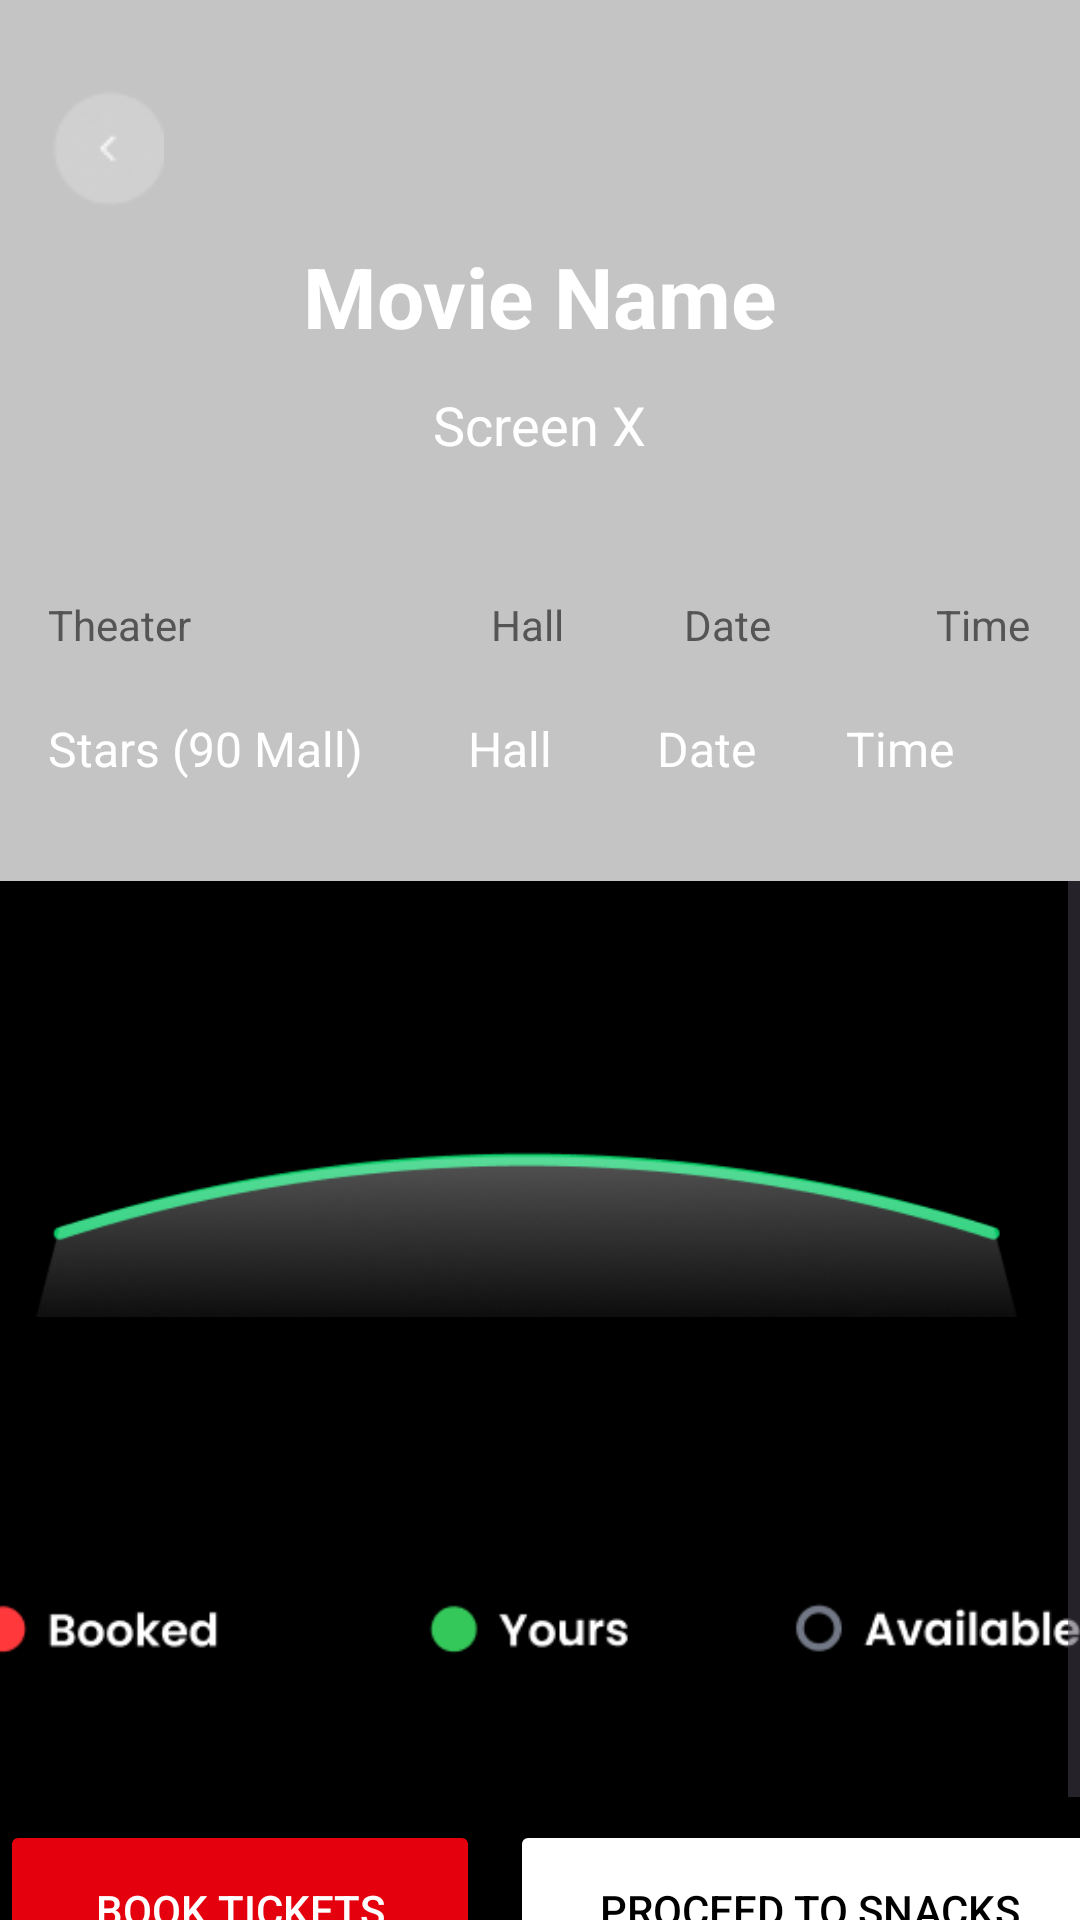

Screen size 1080px×1920px. Icon name, then its center in pixels as [x,y]:
backbutton: [110,148]
